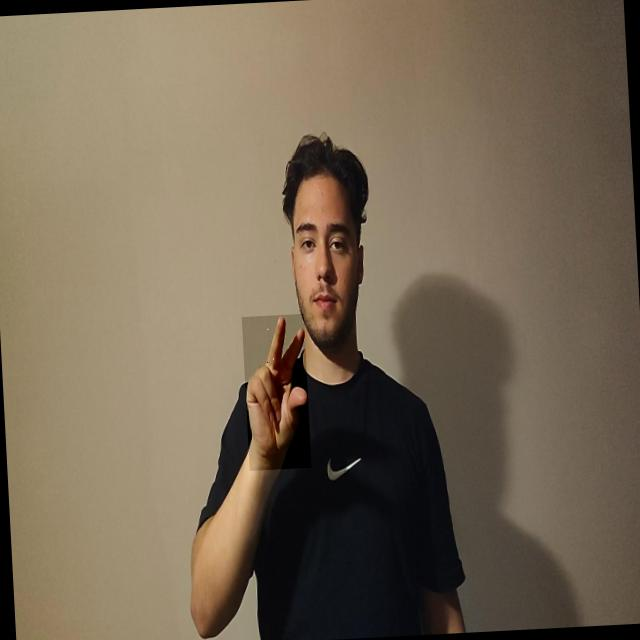no: (242, 314, 312, 471)
